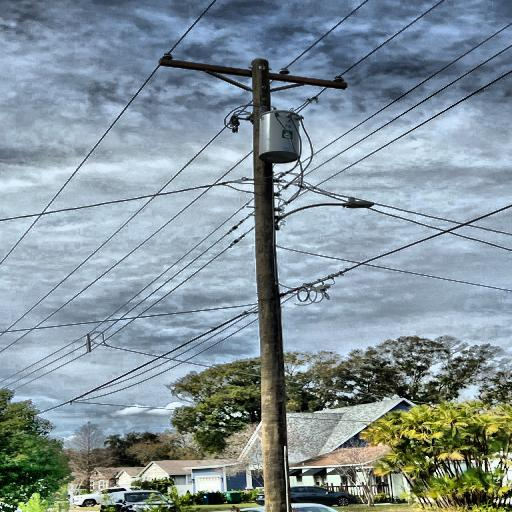pole: (245, 52, 312, 512)
street light: (271, 198, 376, 232)
transformer: (253, 108, 304, 164)
